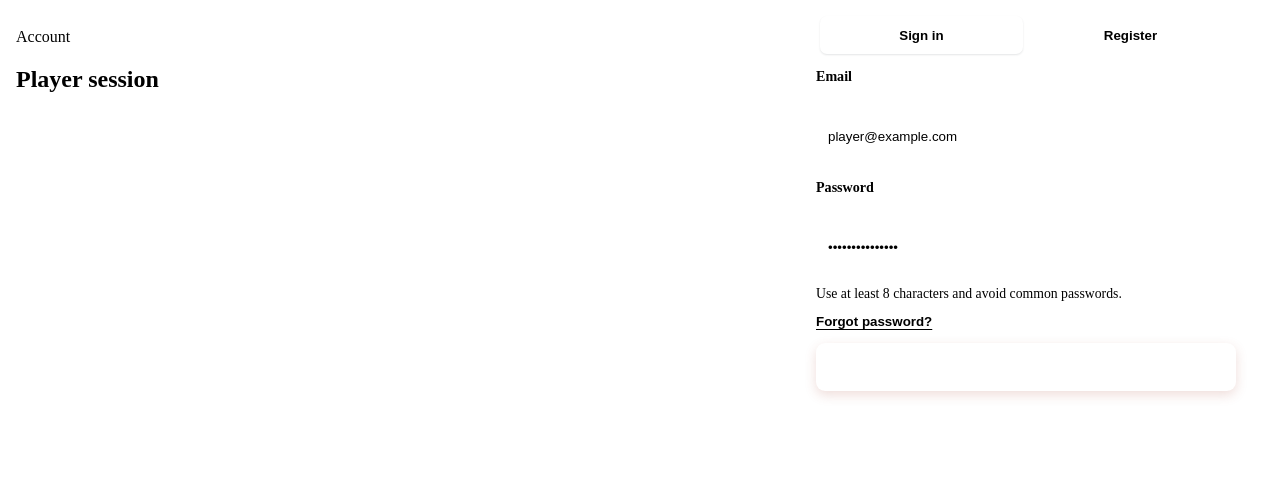
AccountPanel › requires a display name only when registering with Neon
The image size is (1266, 492).
Click the button "Register" at (1130, 35), box [1029,16,1232,54]
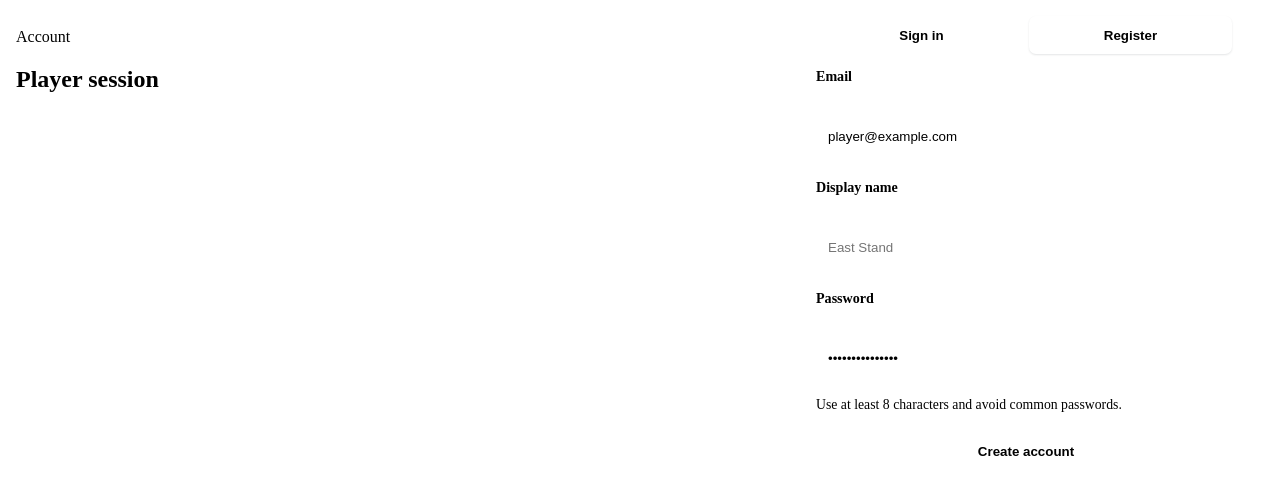
Now the field labelled "Display name" is shown, box [816,214,1260,280]
Now the button "Create account" is disabled, box [816,427,1236,475]
Now the button "Forgot password?" is gone
